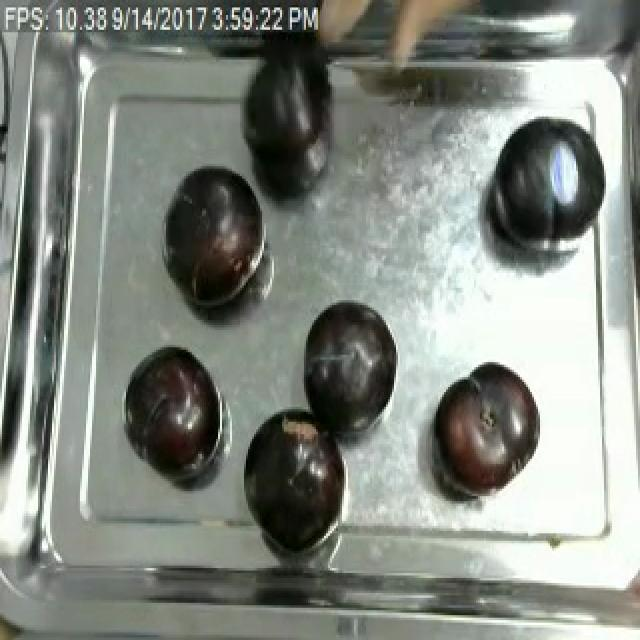Fruit: (482, 109, 610, 263), (158, 161, 268, 315), (428, 362, 542, 506), (242, 407, 350, 548), (298, 295, 400, 439), (120, 340, 224, 476)
